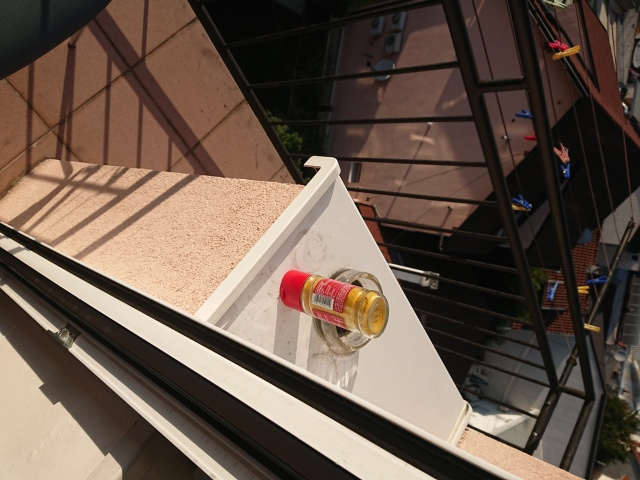Kotanyi Curry Spices Mix 70g: (278, 269, 391, 341)
